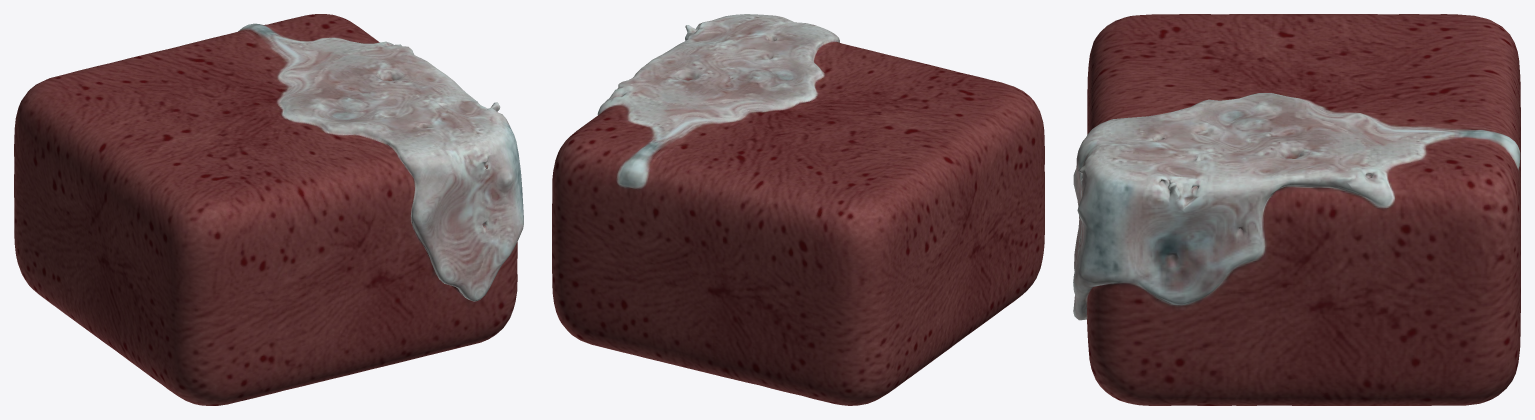
Rendered from infarcted-myocardium.glb.
3 views of the same model, side by side, from view 1: azimuth 30°, elevation 25°; view 2: azimuth 150°, elevation 25°; view 3: azimuth 270°, elevation 25° (orthographic). The views are drawn at different scales.
Visible parts, largest first — view 1: world; view 2: world; view 3: world.
Boxes of the visible parts, box(x1,y1,x2,y2) form: world: box(14, 14, 523, 405); world: box(552, 14, 1044, 405); world: box(1073, 14, 1520, 405).
Bounding box in the file's own units: 0.9989 × 0.6087 × 1.
Materials: 1 (1 with a texture image).
